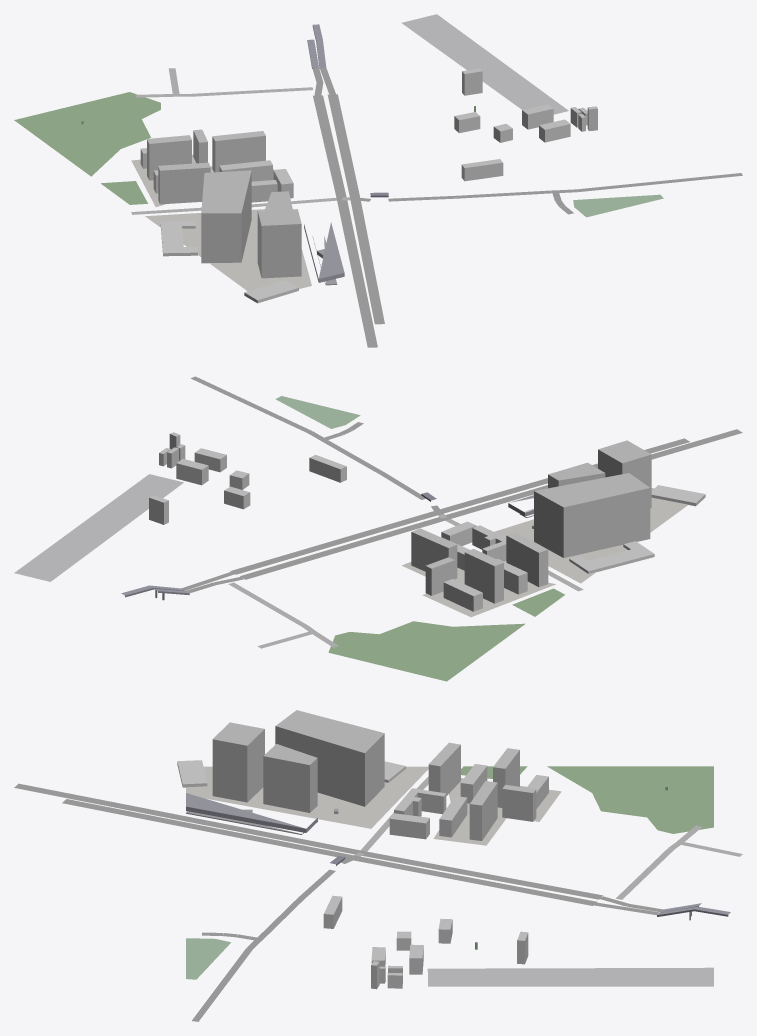
3 renders of one model, top to bottom at view 1: azimuth 30°, elevation 25°; view 2: azimuth 150°, elevation 25°; view 3: azimuth 270°, elevation 25°, orthographic. The views are drawn at different scales.
Size of the model in its own units: 610 by 64.92 by 690.
